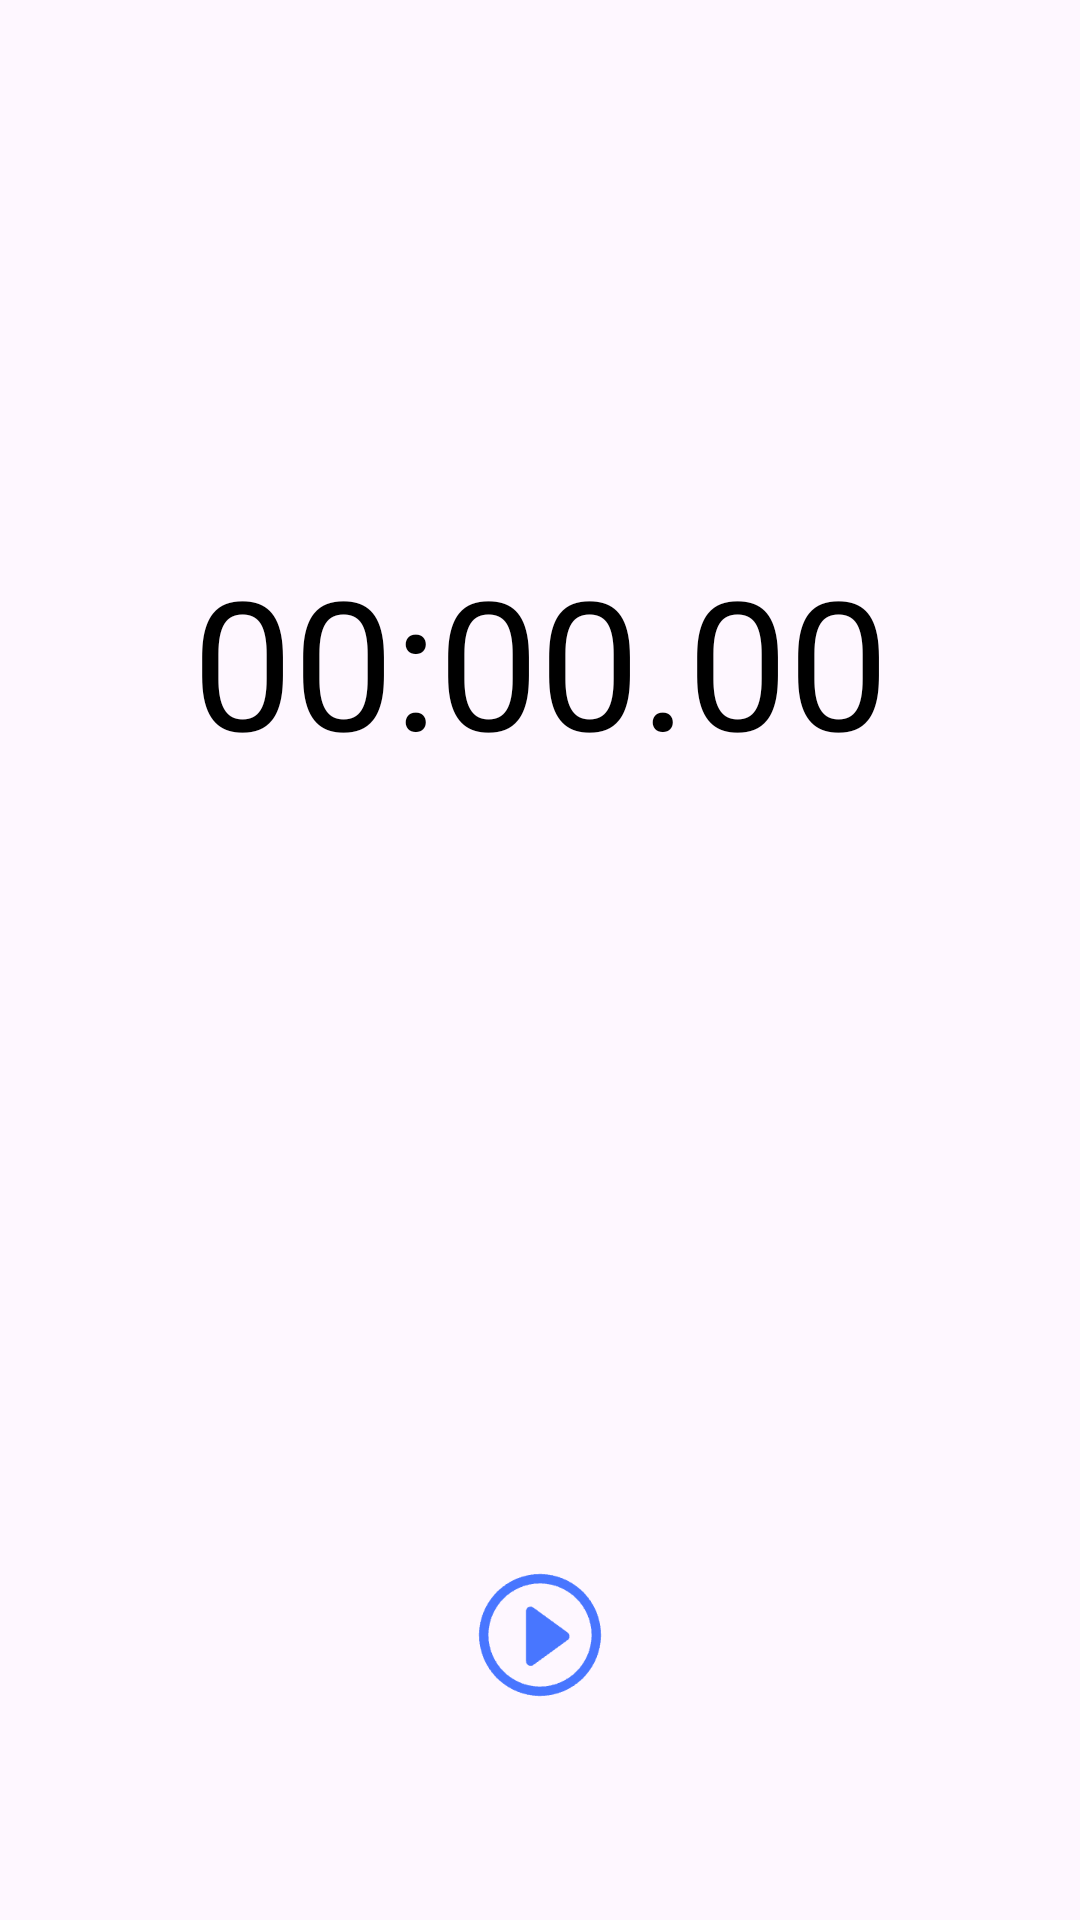

Where to tap for icons on this 1080x1920 app screen, as point (x, y):
start: point (540, 1635)
